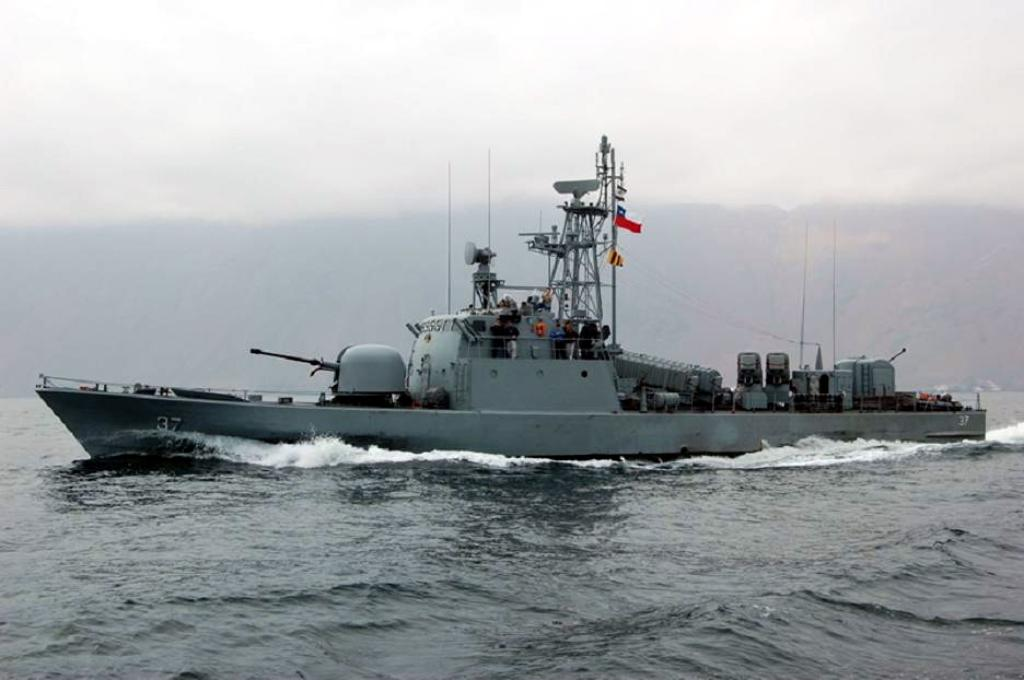Warship: (33, 119, 999, 467)
